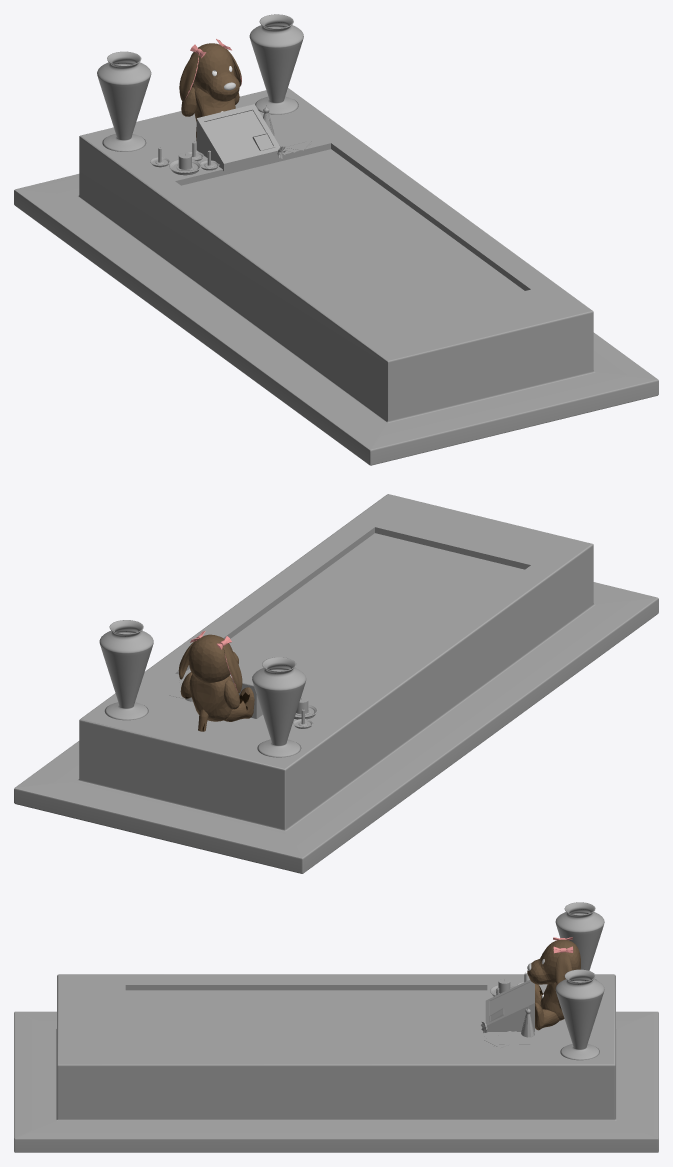
File: Memorial_MESH.fbx
The picture shows the model from 3 angles, top to bottom: view 1: azimuth 30°, elevation 25°; view 2: azimuth 150°, elevation 25°; view 3: azimuth 270°, elevation 25°; orthographic projection. The views are drawn at different scales.
Visible parts, largest first — view 1: Tumulo, Terra, VasoCumprido, Ursinho, Placa; view 2: Tumulo, Terra, VasoCumprido, Ursinho; view 3: Tumulo, Terra, VasoCumprido, Ursinho, Placa.
Boxes of the visible parts, <box> form: Tumulo: <box>14,88,658,465</box>; Terra: <box>181,149,524,327</box>; VasoCumprido: <box>97,14,303,151</box>; Ursinho: <box>179,39,241,140</box>; Placa: <box>196,104,280,171</box>; Tumulo: <box>14,494,658,873</box>; Terra: <box>184,533,524,711</box>; VasoCumprido: <box>99,620,306,757</box>; Ursinho: <box>178,631,254,731</box>; Tumulo: <box>14,974,658,1152</box>; Terra: <box>125,990,487,1053</box>; VasoCumprido: <box>555,902,604,1060</box>; Ursinho: <box>527,937,580,1030</box>; Placa: <box>485,980,534,1032</box>.
Size of the model in its own units: 8.88 by 4.8 by 18.96.
